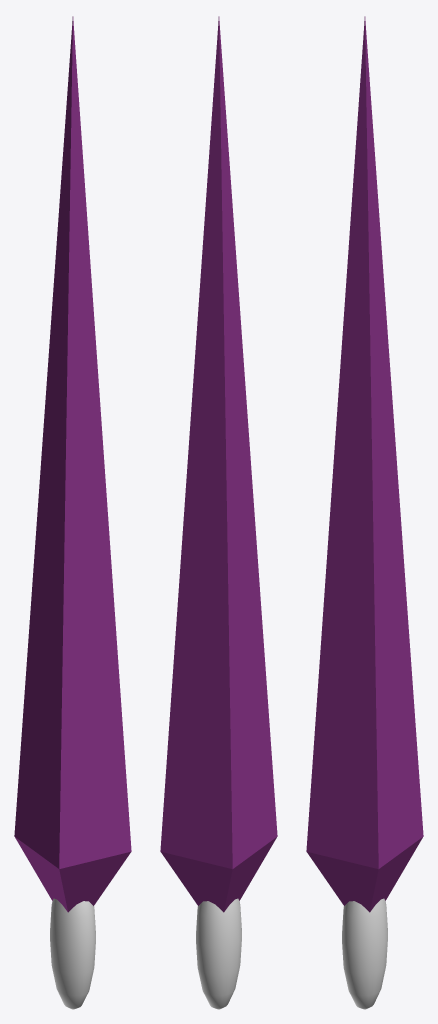
The model's file is Saber.FBX.
The picture shows the model from 3 angles, left to right: view 1: azimuth 30°, elevation 25°; view 2: azimuth 150°, elevation 25°; view 3: azimuth 330°, elevation 25°; orthographic projection.
Visible parts, largest first — view 1: Box001, Sphere001; view 2: Box001, Sphere001; view 3: Box001, Sphere001.
Boxes of the visible parts, box(x1,y1,x2,y2) form: Box001: box(14, 16, 131, 912); Sphere001: box(50, 898, 95, 1009); Box001: box(160, 16, 277, 912); Sphere001: box(196, 898, 241, 1009); Box001: box(306, 16, 423, 912); Sphere001: box(342, 898, 387, 1009).
Bounding box in the file's own units: 0.0857 × 1.13 × 0.092.
